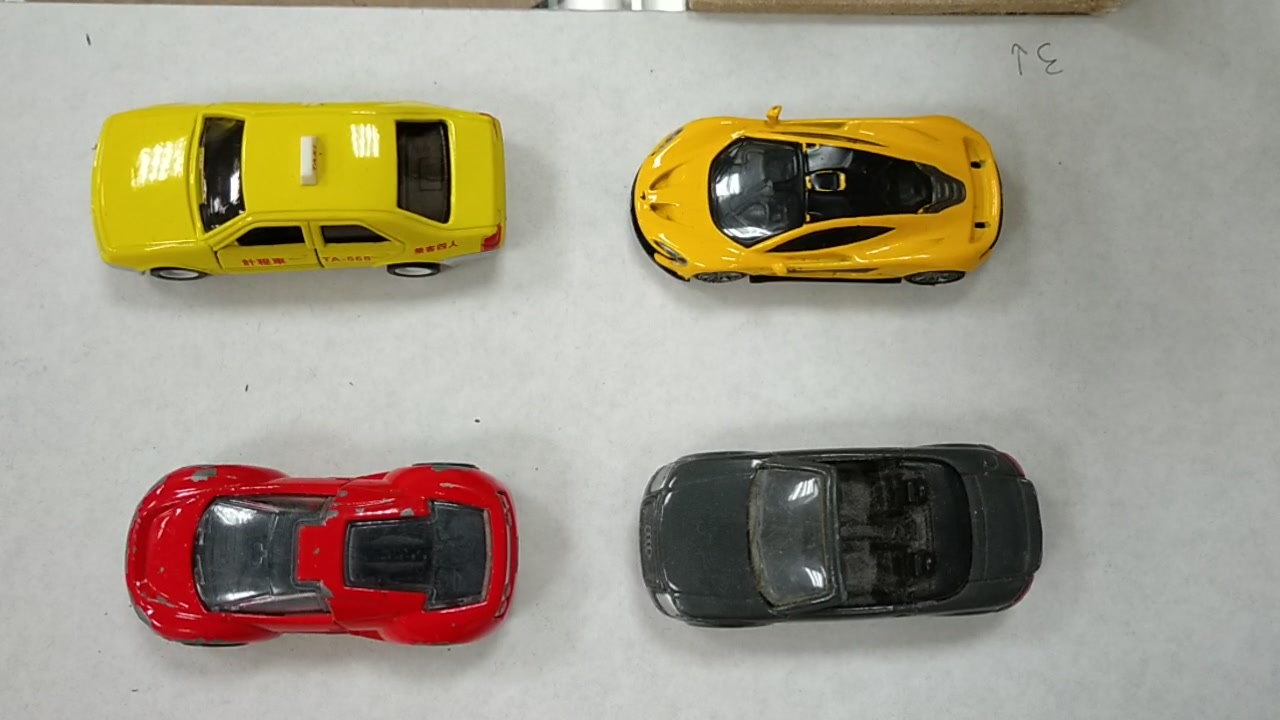car: (76, 103, 512, 288), (111, 458, 519, 653), (628, 101, 1007, 288), (651, 451, 1040, 628)
